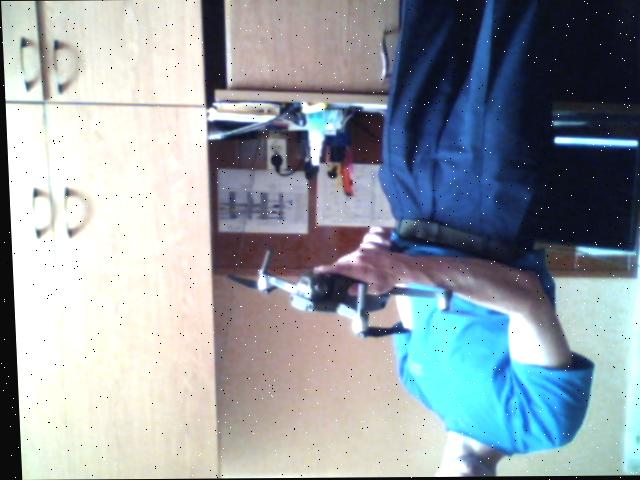drone: (207, 232, 476, 354)
